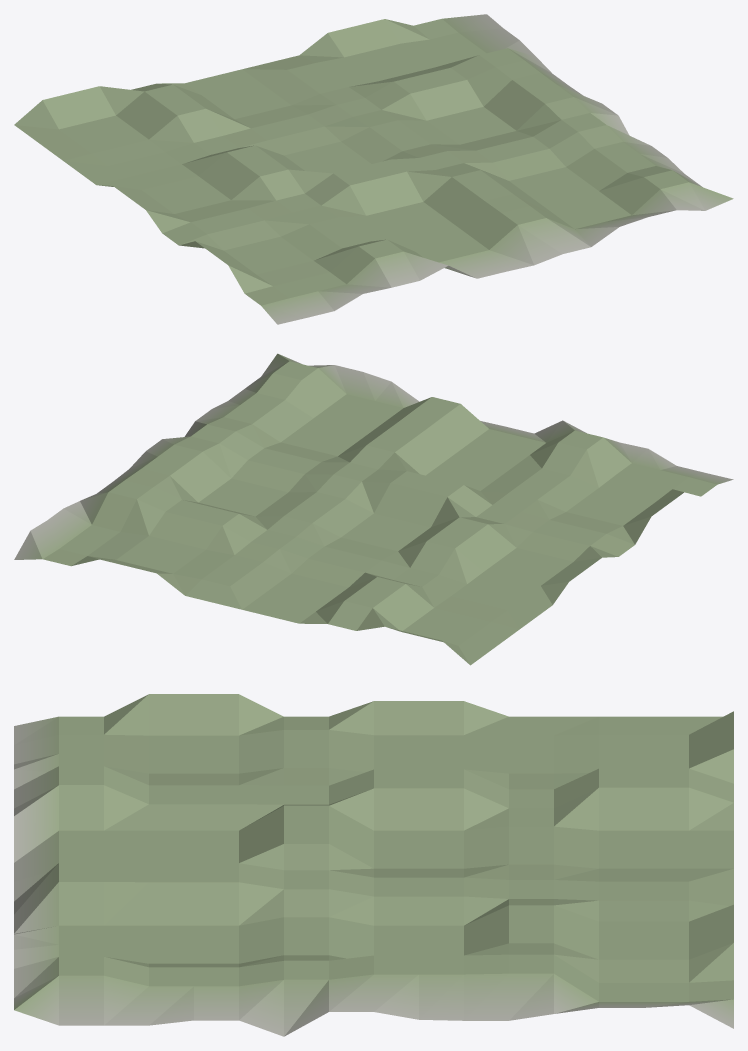
3 renders of one model, top to bottom at view 1: azimuth 30°, elevation 25°; view 2: azimuth 150°, elevation 25°; view 3: azimuth 270°, elevation 25°, orthographic. The views are drawn at different scales.
Bounding box in the file's own units: 32 × 2.16 × 32.
